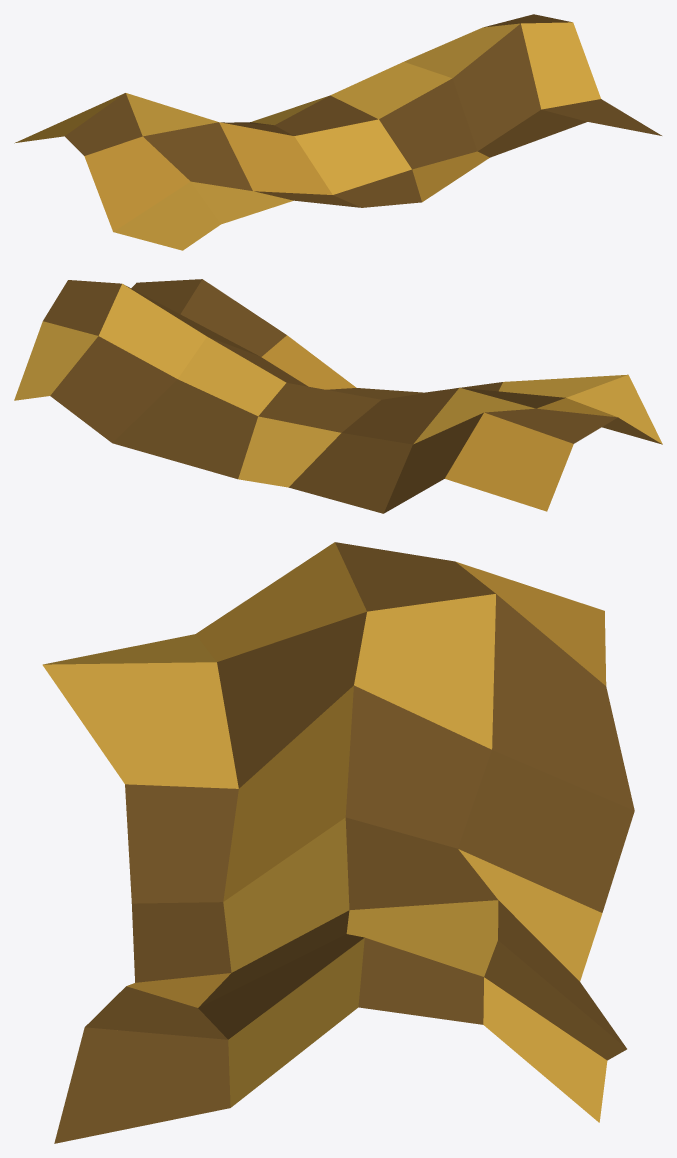
The model's file is deb-mli-02.obj.
3 views of the same model, one above another, from view 1: azimuth 30°, elevation 25°; view 2: azimuth 150°, elevation 25°; view 3: azimuth 270°, elevation 25° (orthographic). The views are drawn at different scales.
Visible parts, largest first — view 1: deb-mli-02; view 2: deb-mli-02; view 3: deb-mli-02.
Boxes of the visible parts, box(x1,y1,x2,y2) form: deb-mli-02: box(14, 14, 661, 250); deb-mli-02: box(14, 279, 662, 513); deb-mli-02: box(42, 542, 634, 1143).
Bounding box in the file's own units: 0.5039 × 0.0935 × 0.2513.
